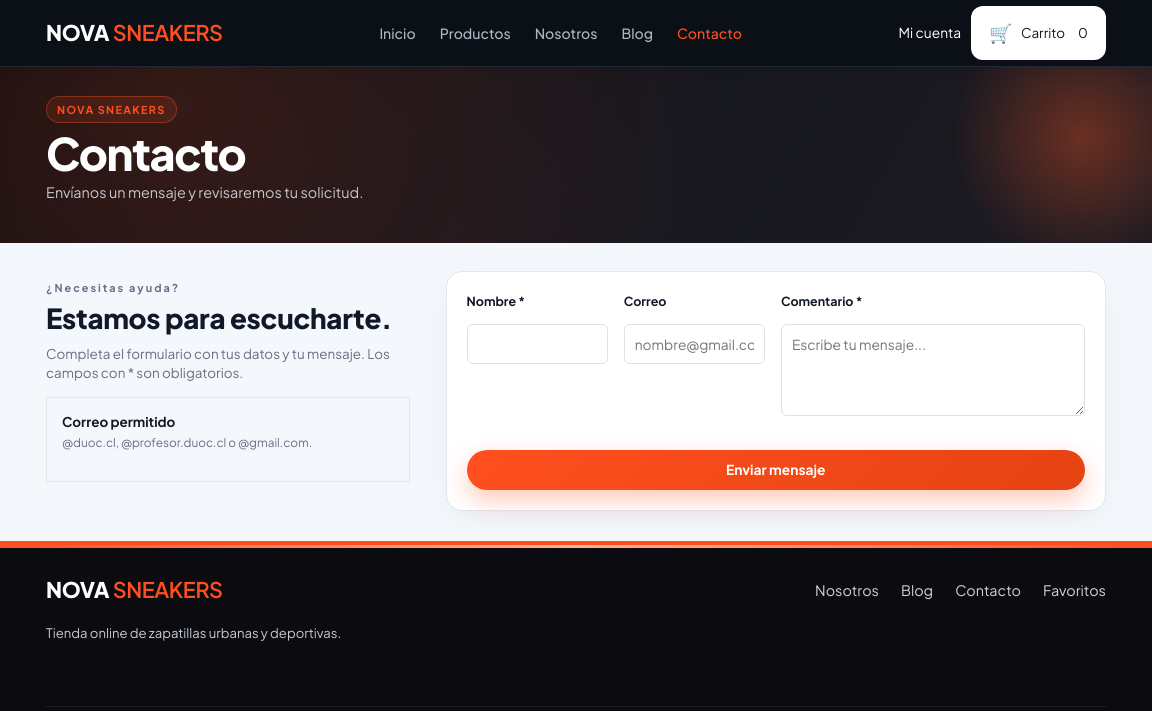
it: Flujos principales de Nova Sneakers › valida el formulario de contacto y acepta dominios permitidos
Step 1. Click the button "Enviar mensaje" → (776, 470), box [466,450,1085,490]
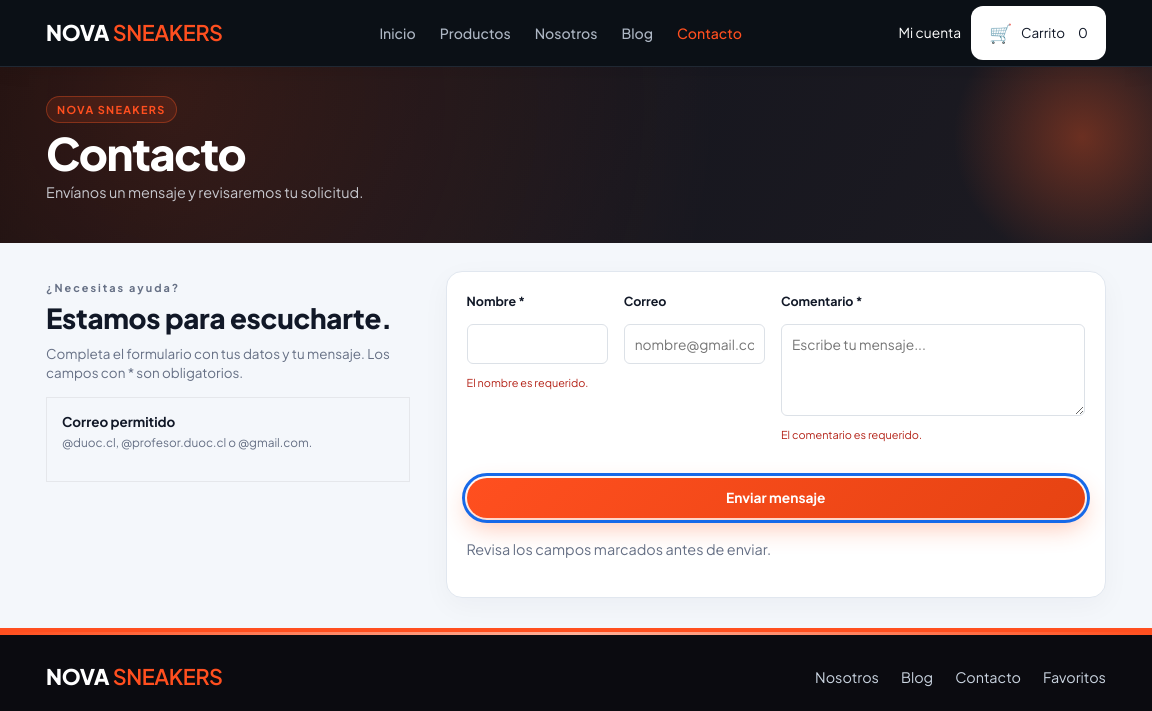
Expected: the text "El nombre es requerido." is shown, [466,374,608,392]
Expected: the text "El comentario es requerido." is shown, [781,428,922,441]
Step 2. Type "Estudiante Nova" into the field labelled "Nombre *" → (537, 344), box [466,324,608,364]
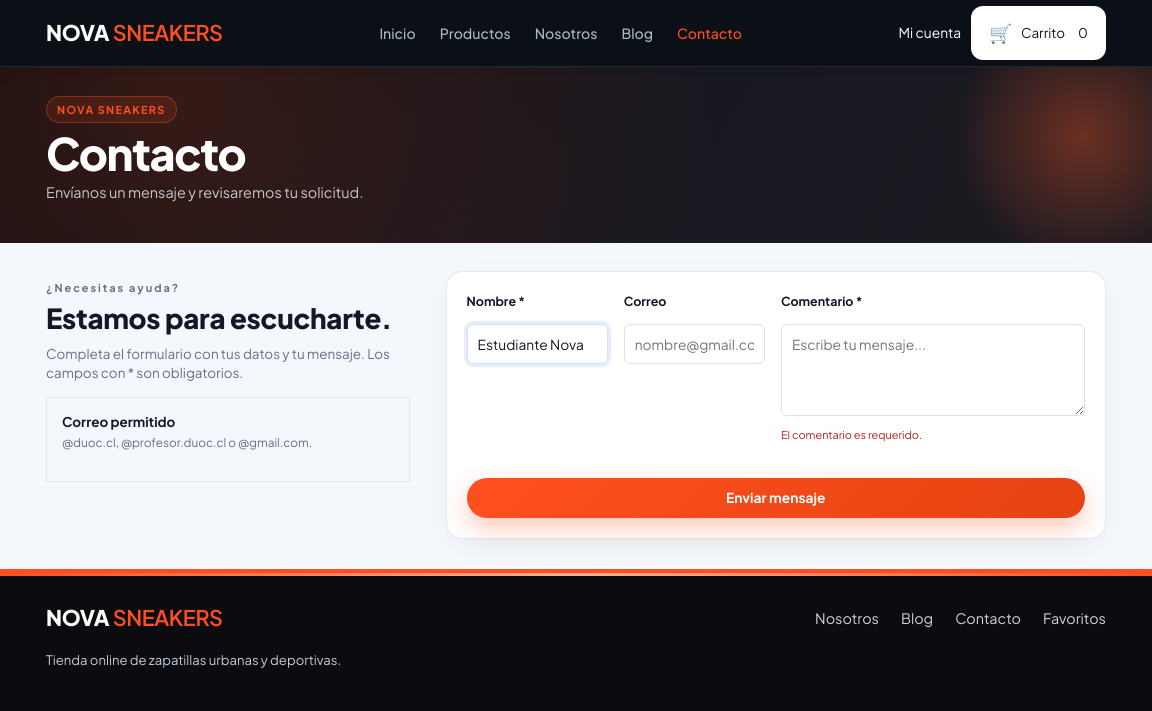
Step 3. Type "estudiante@gmail.com" into the field labelled "Correo" → (694, 344), box [624,324,765,364]
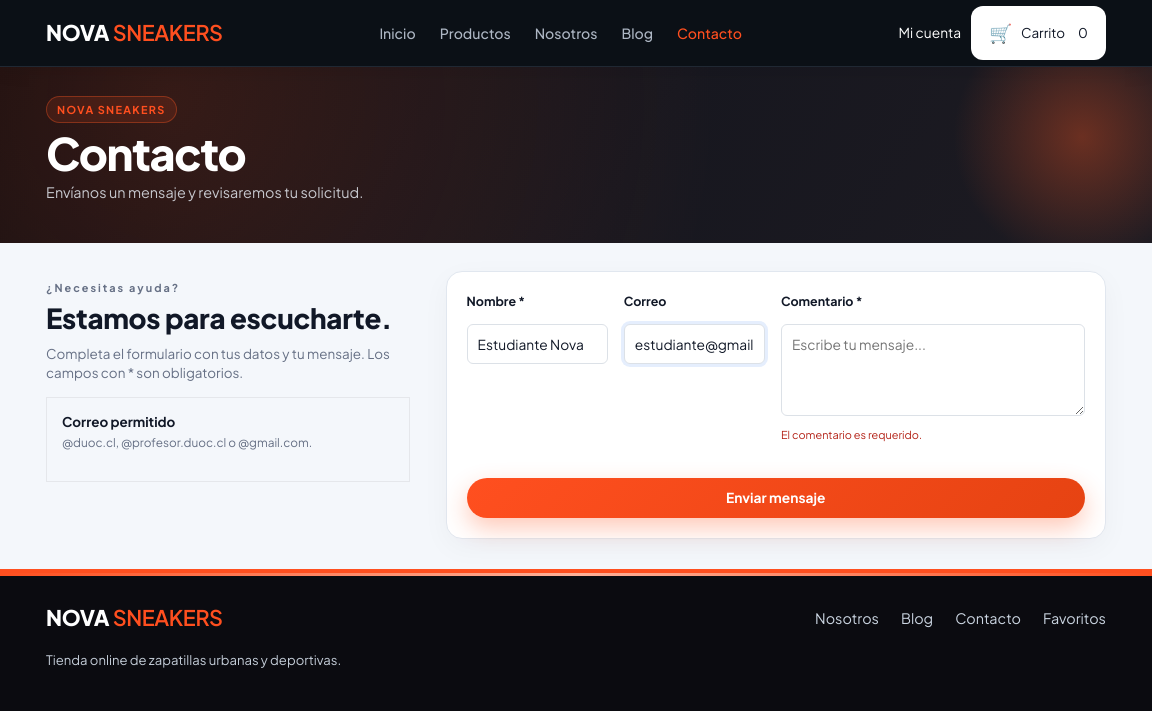
Step 4. Type "Consulta de prueba" into the text box labelled "Comentario *" → (933, 370), box [781,324,1085,416]
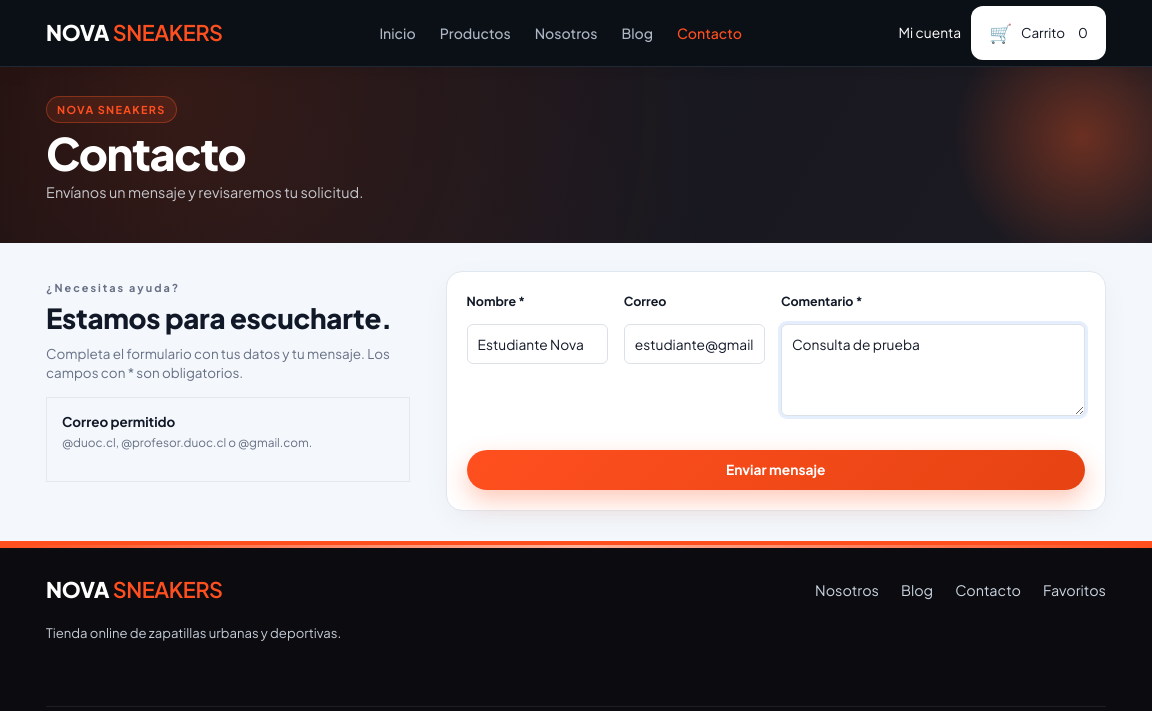
Step 5. Click the button "Enviar mensaje" → (776, 470), box [466,450,1085,490]
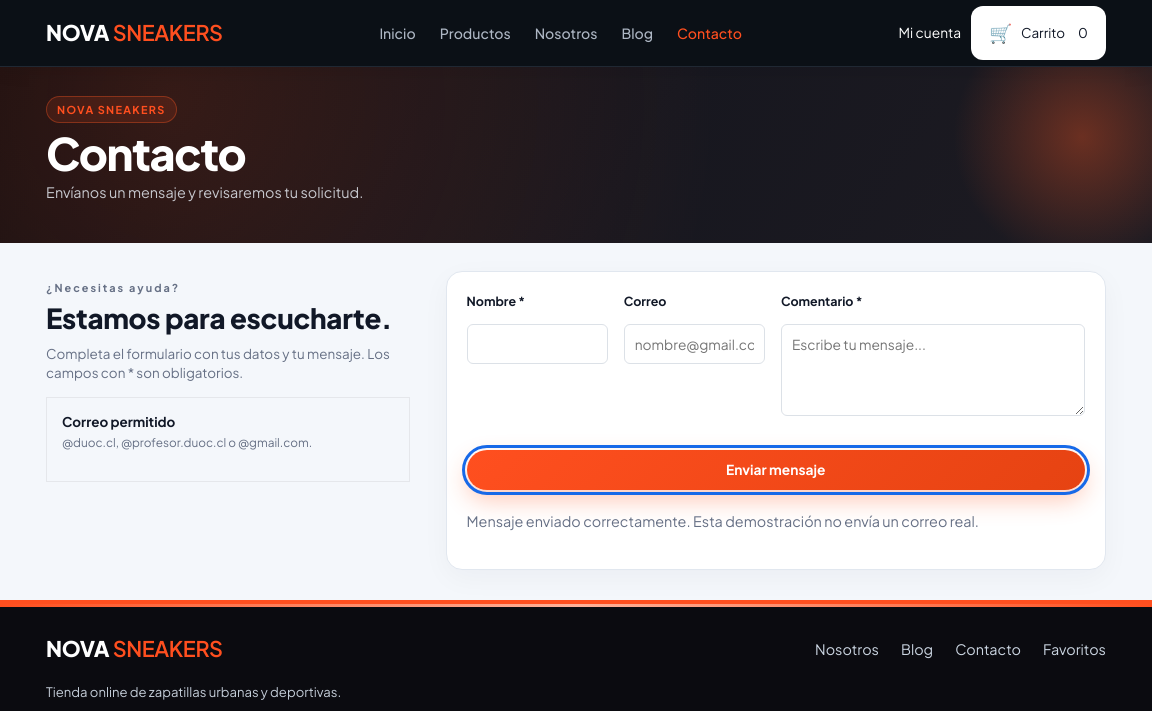
Expected: the message shows "Mensaje enviado correctamente", [466,512,979,530]
